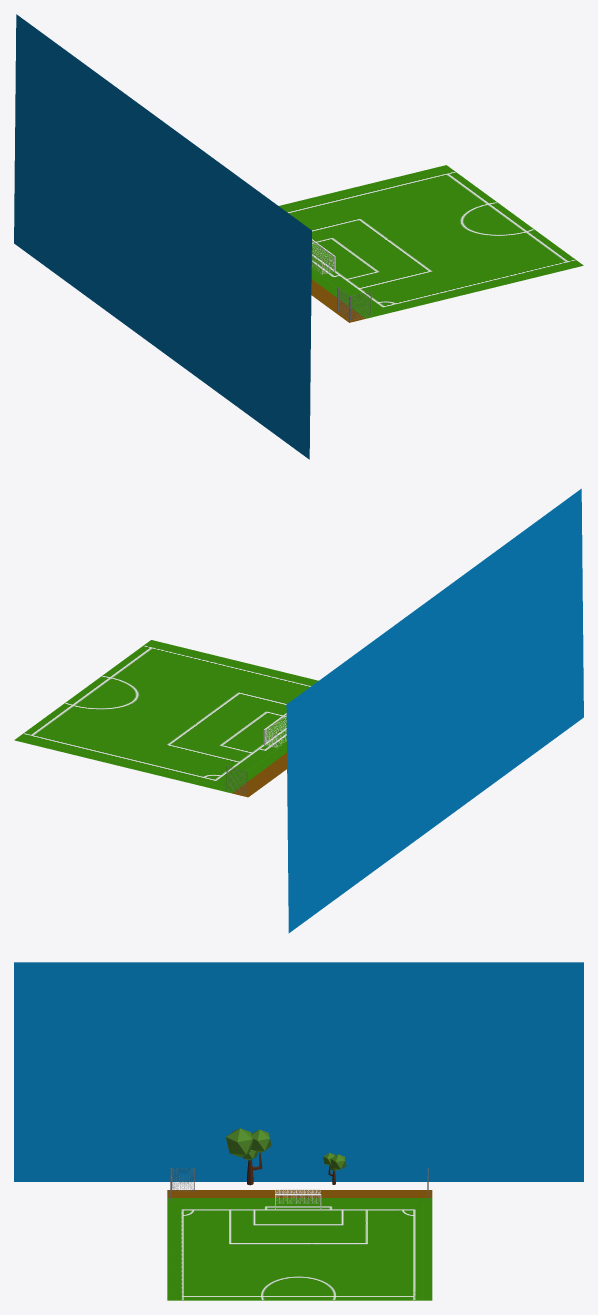
File: stadium.glb
3 views of the same model, one above another, from view 1: azimuth 30°, elevation 25°; view 2: azimuth 150°, elevation 25°; view 3: azimuth 270°, elevation 25° (orthographic). The views are drawn at different scales.
Parts seen in each view (by area): view 1: Plane.003, Plane.002, Plane.001; view 2: Plane.003, Plane.002, Plane.001; view 3: Plane.003, Plane.002, Plane.001, Icosphere.002, Plane, Cube.001.
Part boxes in pixels (x1,y1,x2,y2): Plane.003: [14, 14, 311, 459]; Plane.002: [279, 165, 583, 318]; Plane.001: [311, 279, 365, 322]; Plane.003: [286, 488, 583, 933]; Plane.002: [14, 640, 318, 793]; Plane.001: [232, 753, 286, 797]; Plane.003: [14, 962, 583, 1181]; Plane.002: [167, 1198, 432, 1300]; Plane.001: [167, 1190, 432, 1197]; Icosphere.002: [226, 1128, 253, 1157]; Plane: [275, 1189, 321, 1209]; Cube.001: [171, 1168, 194, 1191].
Size of the model in its own units: 80.59 by 49.8 by 117.
9 materials, 1 textured.
